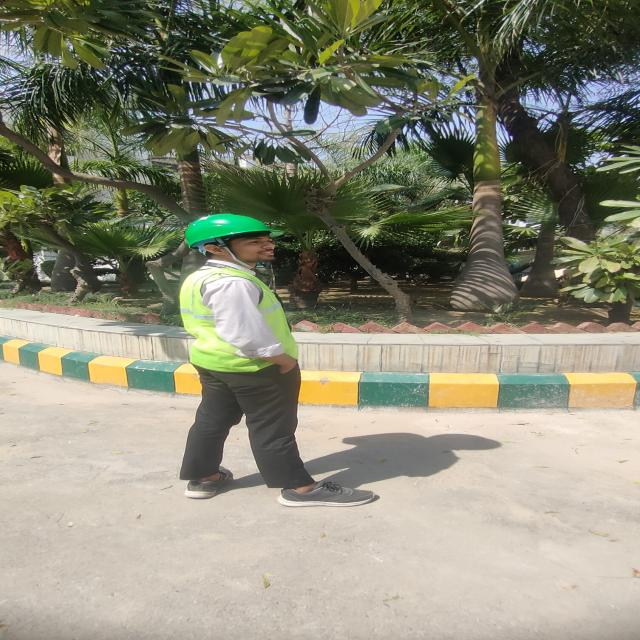safe: (181, 214, 374, 506)
